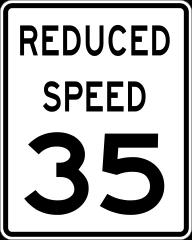Speed Limit -35-: (21, 70, 176, 219)
